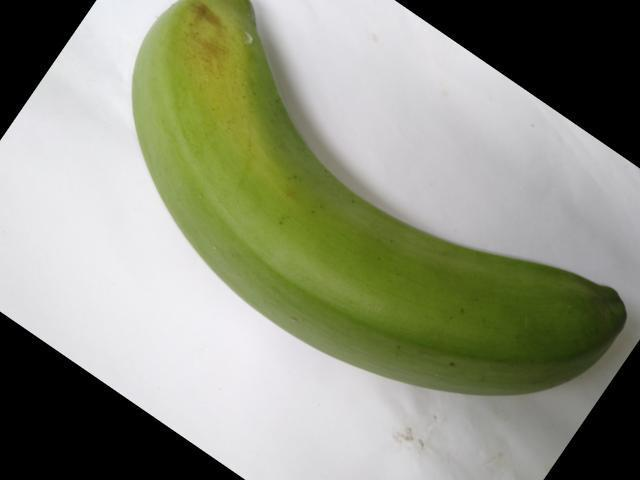freshunripe: (119, 0, 639, 413)
